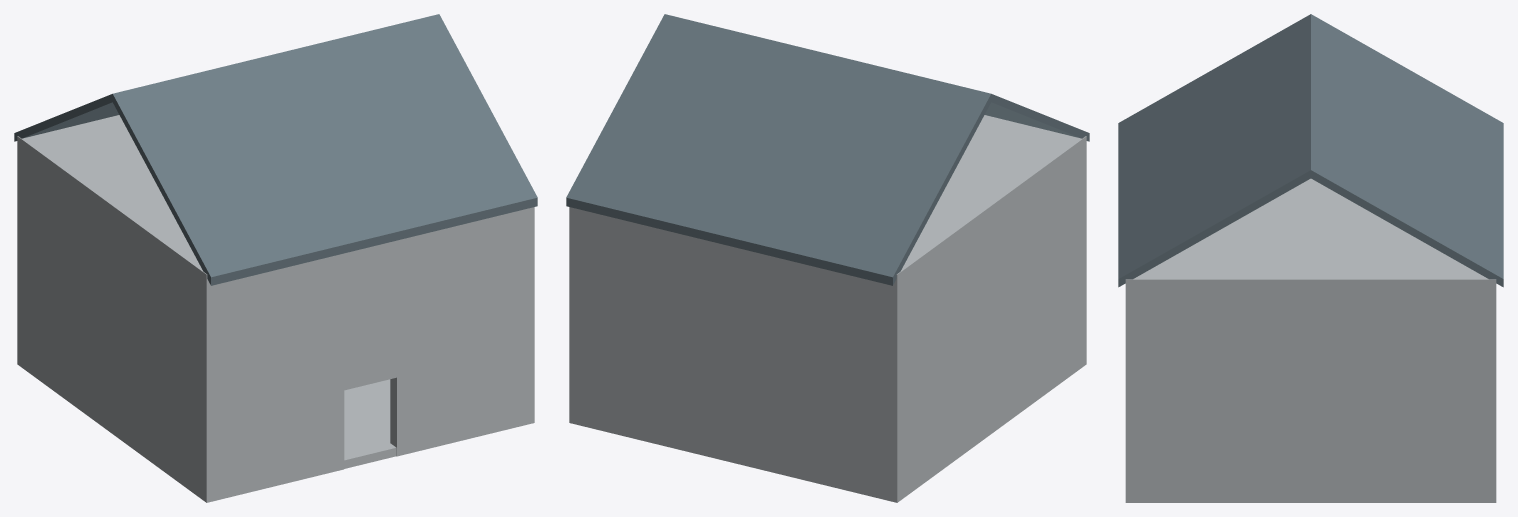
The model's file is house_2_lod2.glb.
The picture shows the model from 3 angles, left to right: view 1: azimuth 30°, elevation 25°; view 2: azimuth 150°, elevation 25°; view 3: azimuth 270°, elevation 25°; orthographic projection. The views are drawn at different scales.
Parts seen in each view (by area): view 1: Roof shell baked, Wall_0 baked, Wall_3 baked, Ceiling baked, Floor baked, Wall_1 baked; view 2: Roof shell baked, Wall_1 baked, Wall_3 baked, Ceiling baked, Wall_0 baked; view 3: Wall_2 baked, Roof shell baked, Ceiling baked, Wall_0 baked, Wall_1 baked.
Part boxes in pixels (x1=…): Roof shell baked: x1=14, y1=14, x2=537, y2=285; Wall_0 baked: x1=200, y1=207, x2=534, y2=502; Wall_3 baked: x1=24, y1=150, x2=199, y2=497; Ceiling baked: x1=17, y1=115, x2=208, y2=283; Floor baked: x1=344, y1=379, x2=396, y2=468; Wall_1 baked: x1=17, y1=145, x2=23, y2=368; Roof shell baked: x1=566, y1=14, x2=1089, y2=285; Wall_1 baked: x1=569, y1=207, x2=903, y2=502; Wall_3 baked: x1=904, y1=150, x2=1079, y2=497; Ceiling baked: x1=895, y1=115, x2=1086, y2=283; Wall_0 baked: x1=1080, y1=145, x2=1086, y2=368; Wall_2 baked: x1=1138, y1=288, x2=1483, y2=502; Roof shell baked: x1=1118, y1=14, x2=1503, y2=287; Ceiling baked: x1=1125, y1=178, x2=1496, y2=287; Wall_0 baked: x1=1125, y1=288, x2=1138, y2=502; Wall_1 baked: x1=1483, y1=288, x2=1496, y2=502.
Bounding box in the file's own units: 10 × 9.9 × 10.4.
